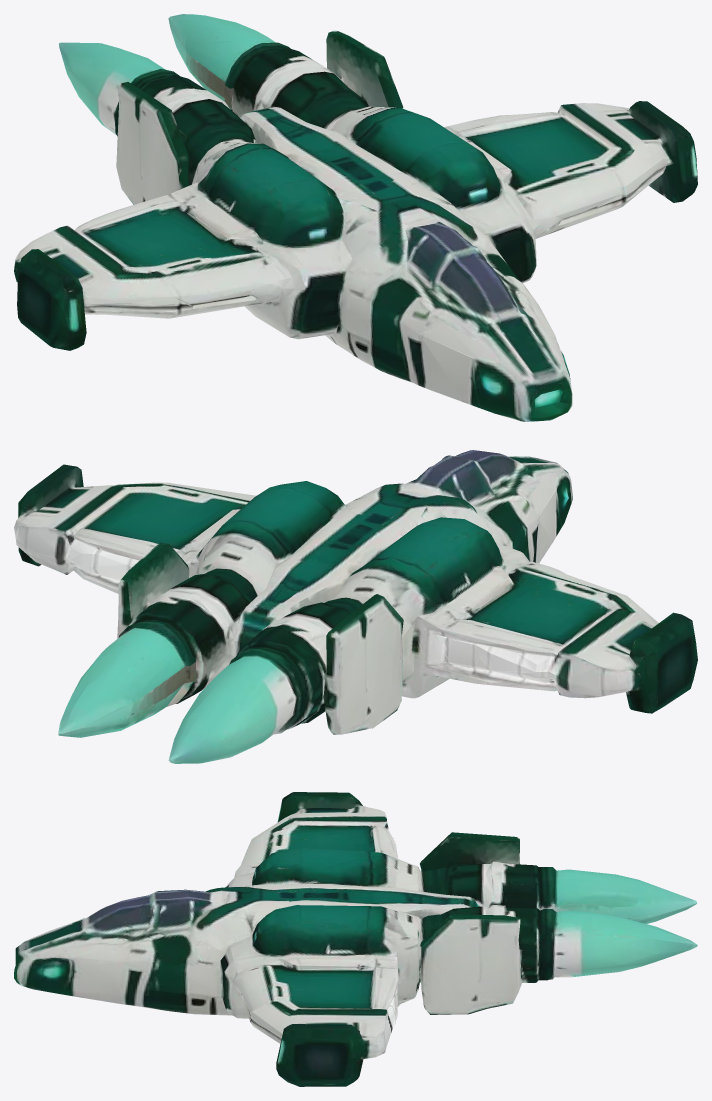
Rendered from aegis.glb.
The picture shows the model from 3 angles, top to bottom: view 1: azimuth 30°, elevation 25°; view 2: azimuth 150°, elevation 25°; view 3: azimuth 270°, elevation 25°; orthographic projection. The views are drawn at different scales.
Visible parts, largest first — view 1: c143a5b4-ae6f-4359-bc97-2acf5b15e7d3_texturing.obj; view 2: c143a5b4-ae6f-4359-bc97-2acf5b15e7d3_texturing.obj; view 3: c143a5b4-ae6f-4359-bc97-2acf5b15e7d3_texturing.obj.
Boxes of the visible parts, x1,y1,x2,y2 form: c143a5b4-ae6f-4359-bc97-2acf5b15e7d3_texturing.obj: (14,14,697,421); c143a5b4-ae6f-4359-bc97-2acf5b15e7d3_texturing.obj: (14,450,697,763); c143a5b4-ae6f-4359-bc97-2acf5b15e7d3_texturing.obj: (14,792,697,1086).
Size of the model in its own units: 1.69 by 0.3796 by 1.99.
1 material, 1 textured.
